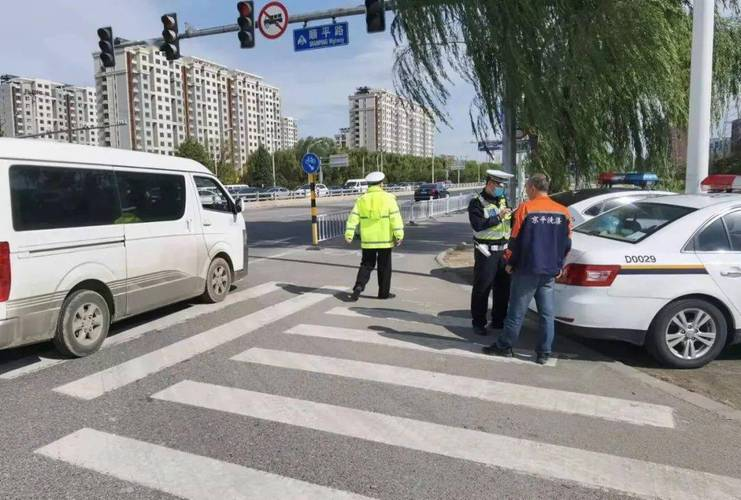car: (1, 137, 249, 360), (517, 191, 741, 370), (561, 190, 674, 224), (414, 183, 450, 201), (225, 185, 261, 202), (294, 183, 329, 197), (343, 179, 369, 194), (262, 186, 290, 197)
person: (509, 173, 574, 368), (340, 172, 406, 303), (466, 170, 516, 335)
sign: (293, 24, 350, 48), (258, 1, 291, 37), (300, 153, 321, 175)
traffic light: (160, 13, 180, 60), (236, 1, 255, 49), (97, 26, 115, 68), (364, 0, 386, 33)
